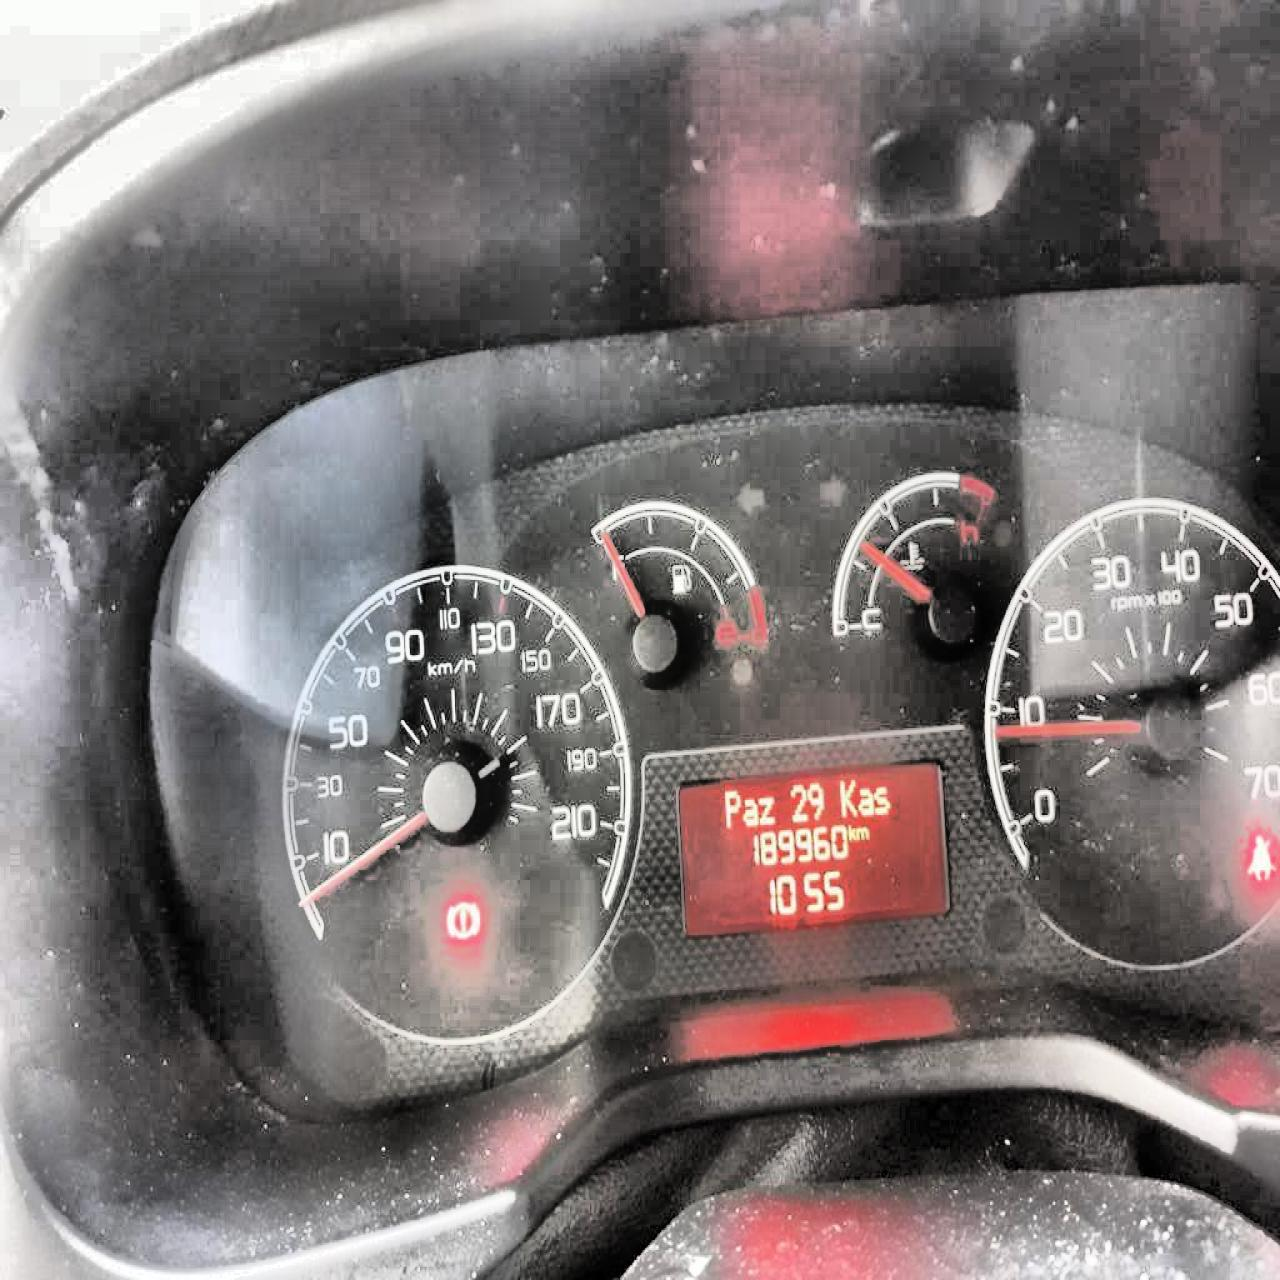0: (776, 872, 796, 915), (830, 824, 846, 858)
1: (768, 874, 776, 915), (751, 830, 758, 863)
2: (789, 781, 806, 822)
5: (802, 870, 823, 913), (823, 869, 843, 910)
6: (812, 823, 830, 859)
8: (760, 829, 775, 865)
9: (806, 779, 825, 818), (776, 826, 795, 863), (795, 825, 812, 862)
X: (837, 775, 857, 817), (722, 787, 740, 829), (872, 783, 890, 813), (757, 794, 775, 824), (742, 795, 757, 826), (857, 785, 872, 817), (855, 825, 869, 840), (847, 822, 855, 840)
odometer: (670, 755, 958, 945)
